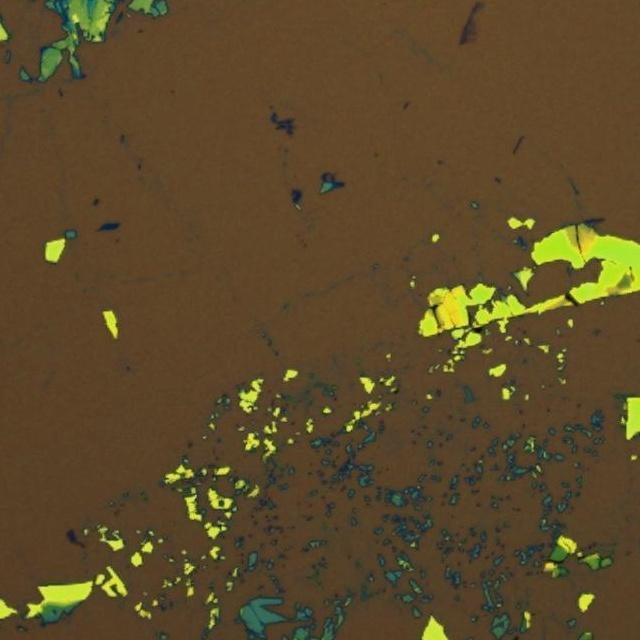monolayer-eWW4: (467, 20, 477, 43)
